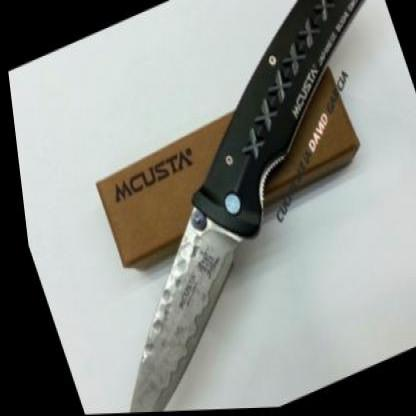knife: (32, 173, 288, 414)
